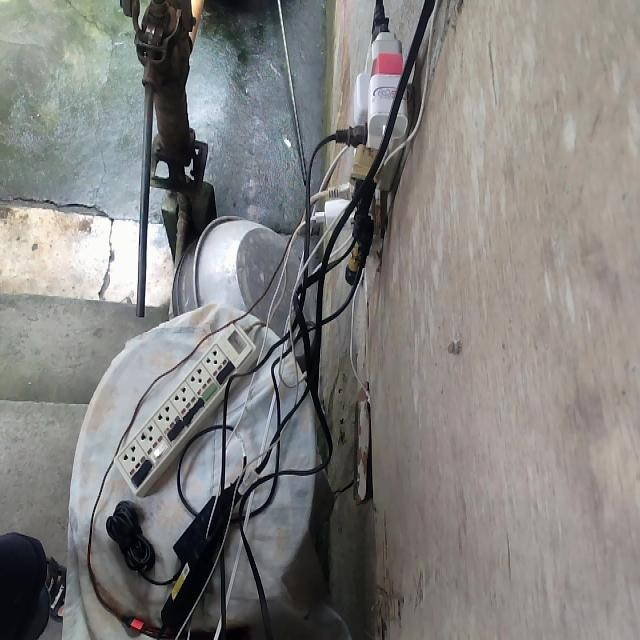-: (311, 29, 410, 272)
